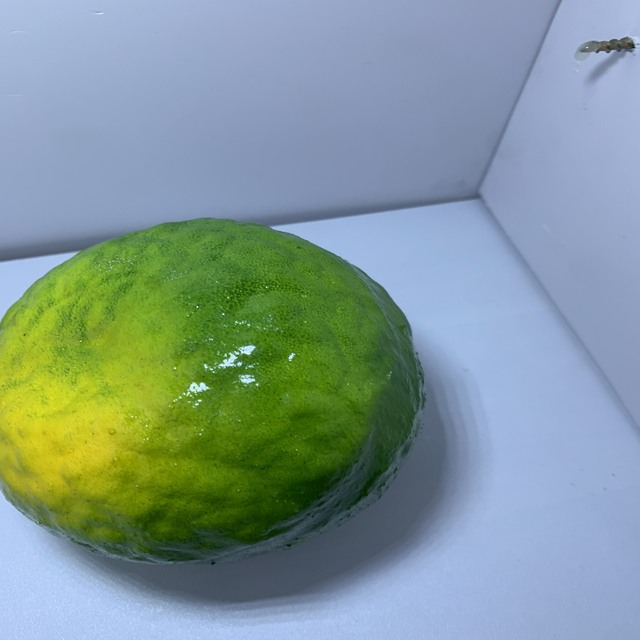Cam xanh: (0, 208, 424, 572)
